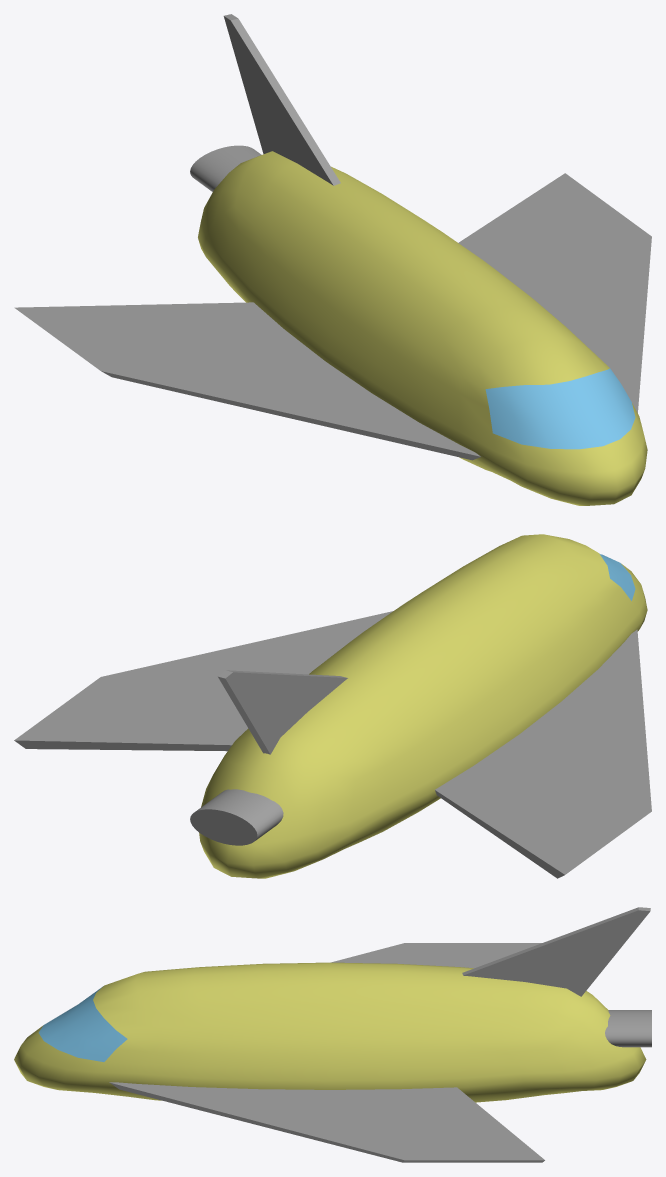
3 views of the same model, one above another, from view 1: azimuth 30°, elevation 25°; view 2: azimuth 150°, elevation 25°; view 3: azimuth 270°, elevation 25° (orthographic). The views are drawn at different scales.
Parts seen in each view (by area): view 1: Cube, Wing_1.001, Wing_1, Cube.001, Cube.002, Boost; view 2: Cube, Wing_1.001, Wing_1, Cube.002, Boost, Cube.001; view 3: Cube, Wing_1, Cube.002, Wing_1.001, Cube.001, Boost.
Part boxes in pixels (x1,y1,x2,y2): Cube: (198,151,647,505); Wing_1.001: (14,302,480,460); Wing_1: (458,173,651,412); Cube.001: (485,368,635,449); Cube.002: (223,14,340,185); Boost: (190,145,261,191); Cube: (199,534,647,878); Wing_1.001: (435,629,651,878); Wing_1: (14,611,393,751); Cube.002: (217,670,347,754); Boost: (190,789,283,845); Cube.001: (599,553,635,600); Cube: (14,962,646,1102); Wing_1: (109,1082,544,1162); Cube.002: (462,907,650,996); Wing_1.001: (331,943,541,968); Cube.001: (38,986,127,1061); Boost: (605,1010,651,1047).
Bounding box in the file's own units: 605 × 242 × 749.
